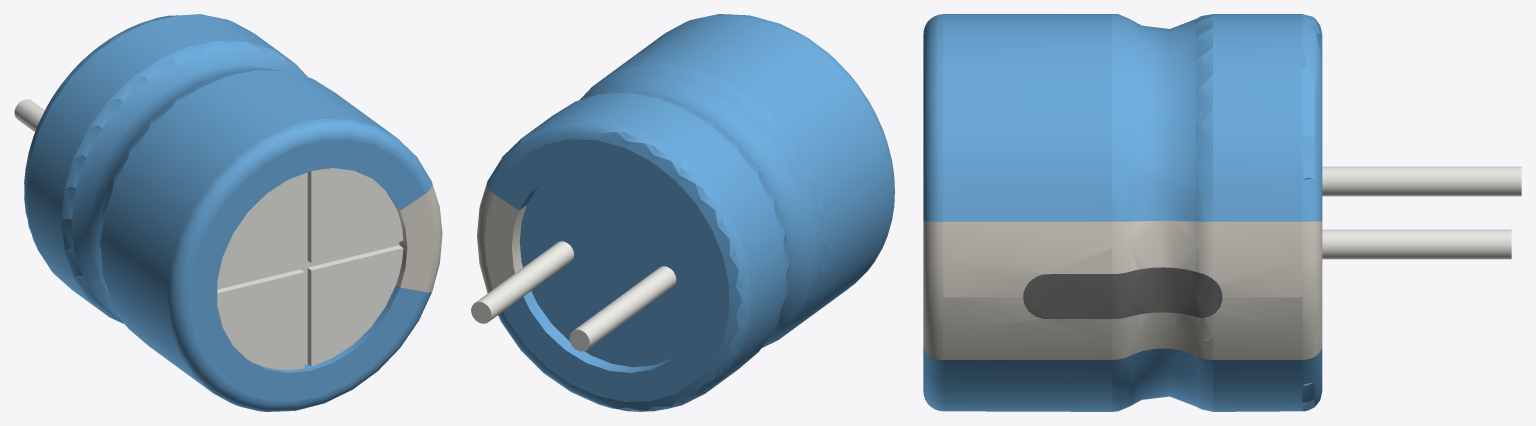
Rendered from CP_Radial_D4.0mm_P1.50mm.glb.
3 renders of one model, left to right at view 1: azimuth 30°, elevation 25°; view 2: azimuth 150°, elevation 25°; view 3: azimuth 270°, elevation 25°, orthographic. The views are drawn at different scales.
Parts seen in each view (by area): view 1: Shape_IndexedFaceSet.025, Shape_IndexedFaceSet.031, Shape_IndexedFaceSet.011, Shape_IndexedFaceSet.028, Shape_IndexedFaceSet.017, Shape_IndexedFaceSet.035, Shape_IndexedFaceSet.037, Shape_IndexedFaceSet.041, Shape_IndexedFaceSet.044, Shape_IndexedFaceSet.013, Shape_IndexedFaceSet.032, Shape_IndexedFaceSet.038 (+8 smaller); view 2: Shape_IndexedFaceSet.025, Shape_IndexedFaceSet.002, Shape_IndexedFaceSet.006, Shape_IndexedFaceSet.011, Shape_IndexedFaceSet.009, Shape_IndexedFaceSet.017, Shape_IndexedFaceSet.021, Shape_IndexedFaceSet.005, Shape_IndexedFaceSet.001, Shape_IndexedFaceSet.007, Shape_IndexedFaceSet.003, Shape_IndexedFaceSet.013 (+3 smaller); view 3: Shape_IndexedFaceSet.025, Shape_IndexedFaceSet.011, Shape_IndexedFaceSet.027, Shape_IndexedFaceSet.017, Shape_IndexedFaceSet.012, Shape_IndexedFaceSet.005, Shape_IndexedFaceSet.001, Shape_IndexedFaceSet.028, Shape_IndexedFaceSet.009, Shape_IndexedFaceSet.021, Shape_IndexedFaceSet.013, Shape_IndexedFaceSet.029 (+11 smaller).
Part boxes in pixels (x1,y1,x2,y2): Shape_IndexedFaceSet.025: (101, 70, 395, 392); Shape_IndexedFaceSet.031: (190, 139, 425, 401); Shape_IndexedFaceSet.011: (26, 15, 293, 315); Shape_IndexedFaceSet.028: (167, 119, 432, 411); Shape_IndexedFaceSet.017: (72, 49, 302, 341); Shape_IndexedFaceSet.035: (311, 248, 403, 366); Shape_IndexedFaceSet.037: (311, 168, 403, 262); Shape_IndexedFaceSet.041: (217, 272, 304, 370); Shape_IndexedFaceSet.044: (217, 173, 304, 285); Shape_IndexedFaceSet.013: (61, 41, 307, 323); Shape_IndexedFaceSet.032: (400, 194, 434, 291); Shape_IndexedFaceSet.038: (217, 172, 399, 364); Shape_IndexedFaceSet.025: (595, 15, 892, 338); Shape_IndexedFaceSet.002: (519, 168, 701, 367); Shape_IndexedFaceSet.006: (494, 139, 728, 401); Shape_IndexedFaceSet.011: (523, 93, 786, 391); Shape_IndexedFaceSet.009: (487, 119, 751, 411); Shape_IndexedFaceSet.017: (586, 72, 815, 342); Shape_IndexedFaceSet.021: (580, 64, 826, 347); Shape_IndexedFaceSet.005: (574, 266, 676, 348); Shape_IndexedFaceSet.001: (476, 241, 574, 321); Shape_IndexedFaceSet.007: (484, 194, 518, 289); Shape_IndexedFaceSet.003: (519, 178, 672, 372); Shape_IndexedFaceSet.013: (578, 91, 789, 349); Shape_IndexedFaceSet.025: (943, 14, 1112, 411); Shape_IndexedFaceSet.011: (1213, 14, 1302, 411); Shape_IndexedFaceSet.027: (943, 221, 1112, 359); Shape_IndexedFaceSet.017: (1129, 19, 1195, 406); Shape_IndexedFaceSet.012: (1213, 221, 1302, 359); Shape_IndexedFaceSet.005: (1322, 166, 1521, 196); Shape_IndexedFaceSet.001: (1322, 229, 1511, 259); Shape_IndexedFaceSet.028: (923, 14, 943, 411); Shape_IndexedFaceSet.009: (1302, 14, 1322, 411); Shape_IndexedFaceSet.021: (1112, 14, 1129, 411); Shape_IndexedFaceSet.013: (1196, 14, 1212, 411); Shape_IndexedFaceSet.029: (1023, 274, 1112, 318).
Bounding box in the file's own units: 1.58 × 1.57 × 2.36.
